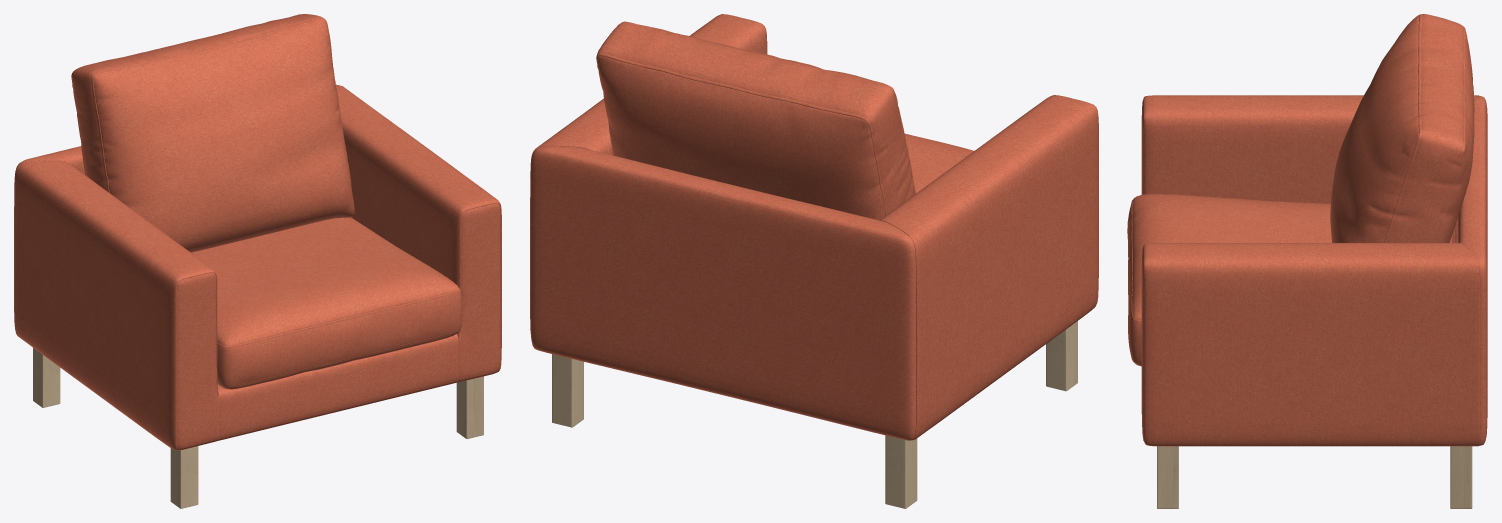
Rendered from saltsjobaden-sillon-tonerud-marron-rojizo.glb.
3 views of the same model, side by side, from view 1: azimuth 30°, elevation 25°; view 2: azimuth 150°, elevation 25°; view 3: azimuth 270°, elevation 25° (orthographic). The views are drawn at different scales.
Visible parts, largest first — view 1: 000, 004; view 2: 000, 004; view 3: 000, 004.
Boxes of the visible parts, left/top/right/bottom form: 000: left=14, top=14, right=501, bottom=450; 004: left=33, top=348, right=483, bottom=508; 000: left=530, top=14, right=1098, bottom=440; 004: left=552, top=321, right=1077, bottom=508; 000: left=1127, top=14, right=1487, bottom=446; 004: left=1157, top=446, right=1472, bottom=508.
Bounding box in the file's own units: 0.93 × 0.9 × 0.82.
Materials: 2 (2 with a texture image).
